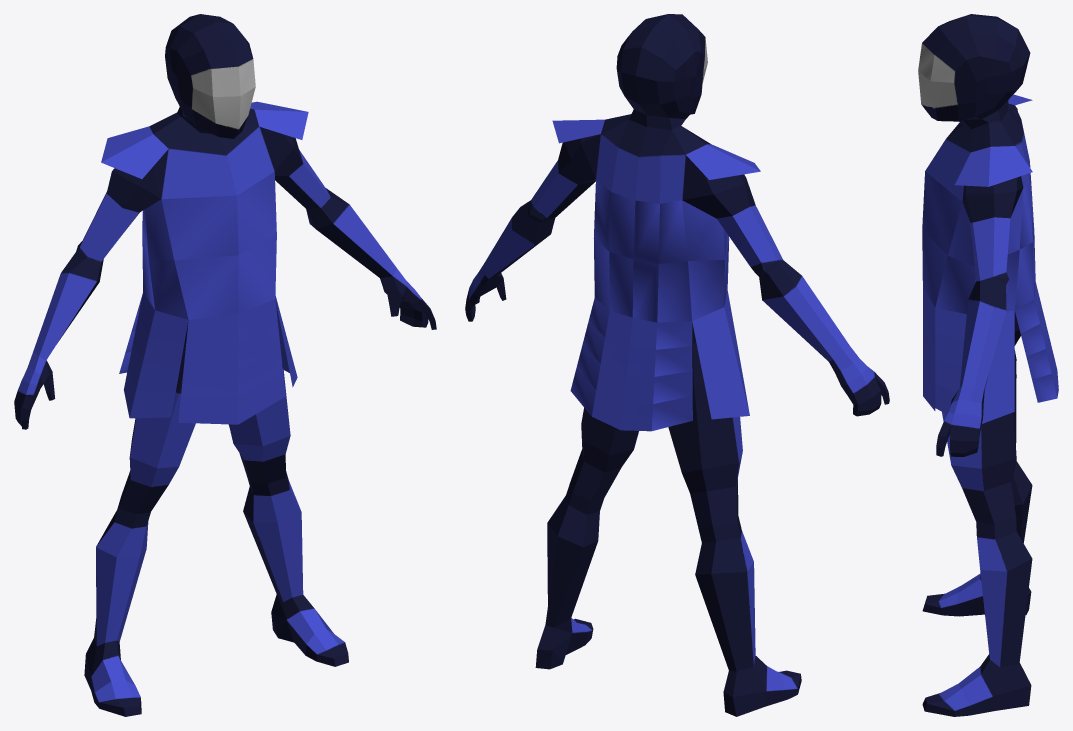
The model's file is GearedOpponent-Dummy_Model.fbx.
3 views of the same model, side by side, from view 1: azimuth 30°, elevation 25°; view 2: azimuth 150°, elevation 25°; view 3: azimuth 270°, elevation 25° (orthographic). The views are drawn at different scales.
Visible parts, largest first — view 1: DoubleStickOpponent.004; view 2: DoubleStickOpponent.004; view 3: DoubleStickOpponent.004.
Part boxes in pixels (x1,y1,x2,y2): DoubleStickOpponent.004: (14, 14, 436, 716); DoubleStickOpponent.004: (465, 14, 889, 716); DoubleStickOpponent.004: (918, 14, 1058, 716).
Bounding box in the file's own units: 140 × 211 × 41.94.
